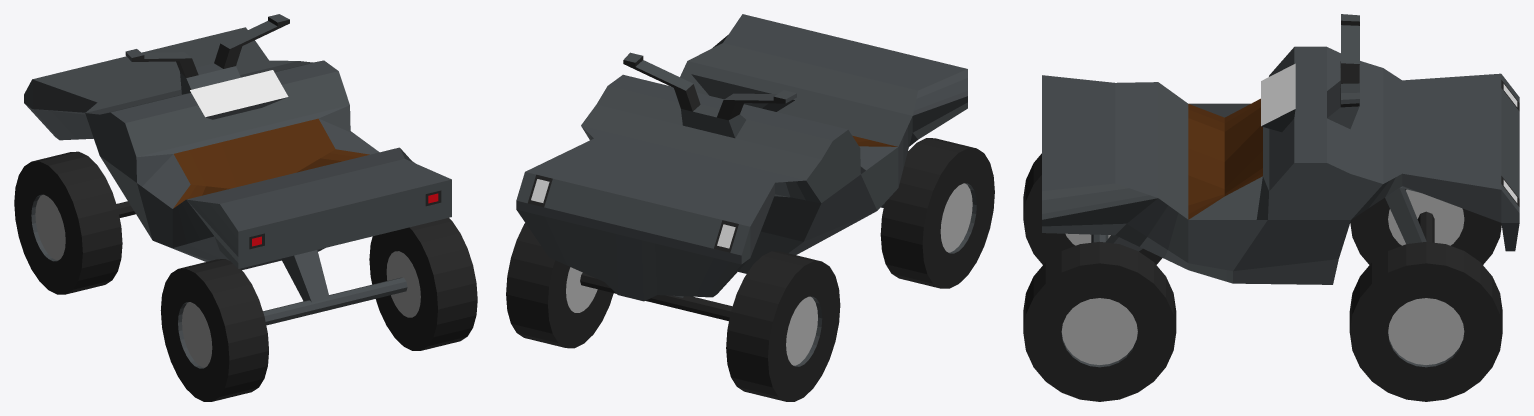
File: LowPolyQuad_JAM23.fbx
The picture shows the model from 3 angles, left to right: view 1: azimuth 30°, elevation 25°; view 2: azimuth 150°, elevation 25°; view 3: azimuth 270°, elevation 25°; orthographic projection. The views are drawn at different scales.
Parts seen in each view (by area): view 1: Cube; view 2: Cube; view 3: Cube.
Part boxes in pixels (bbox=[...]): Cube: bbox=[14, 14, 477, 401]; Cube: bbox=[506, 14, 994, 401]; Cube: bbox=[1023, 14, 1519, 401].
Size of the model in its own units: 1.88 by 1.8 by 2.92.
